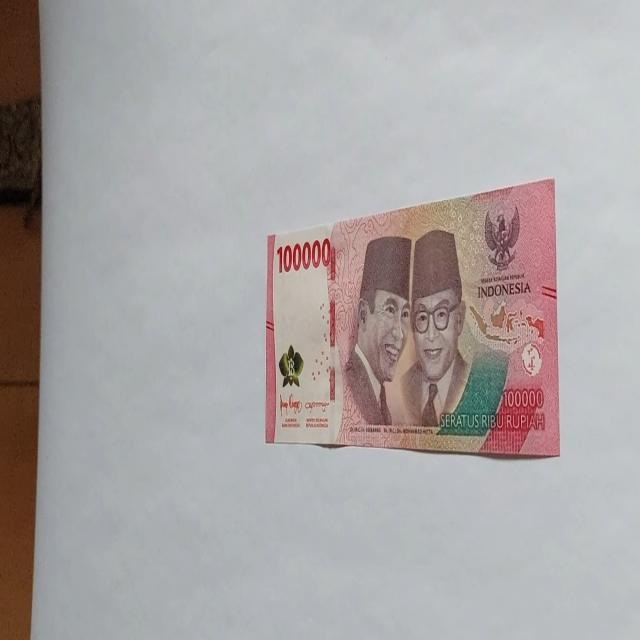seratus ribu rupiah: (264, 177, 560, 458), (398, 228, 472, 428), (343, 234, 411, 432)
